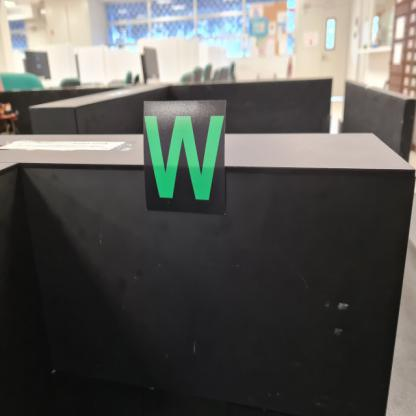w: (144, 98, 229, 215)
